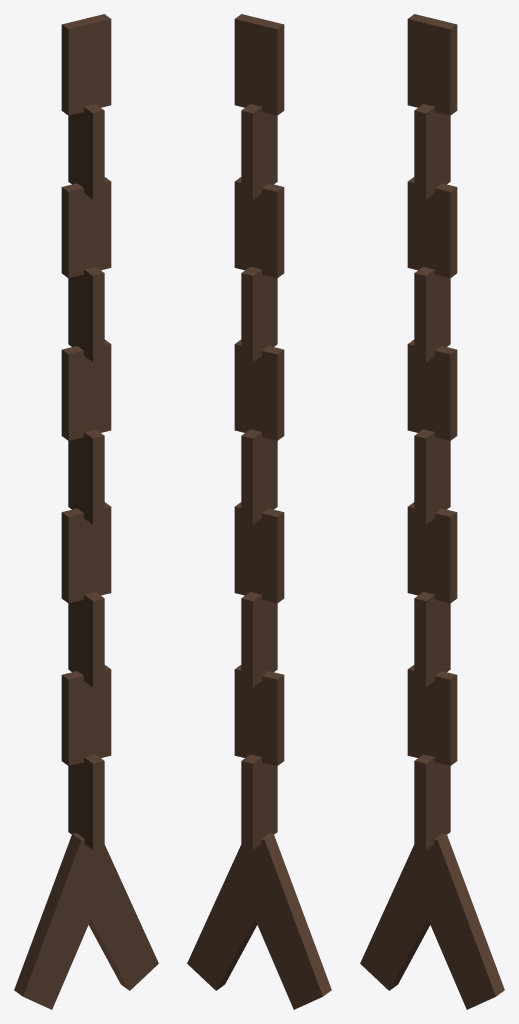
The model's file is hanging_chain.fbx.
3 views of the same model, side by side, from view 1: azimuth 30°, elevation 25°; view 2: azimuth 150°, elevation 25°; view 3: azimuth 330°, elevation 25° (orthographic).
Parts seen in each view (by area): view 1: hanging_chain; view 2: hanging_chain; view 3: hanging_chain.
Boxes of the visible parts, <box> form: hanging_chain: <box>14,14,158,1009</box>; hanging_chain: <box>187,14,331,1009</box>; hanging_chain: <box>360,14,504,1009</box>.
Bounding box in the file's own units: 140 × 960 × 44.
